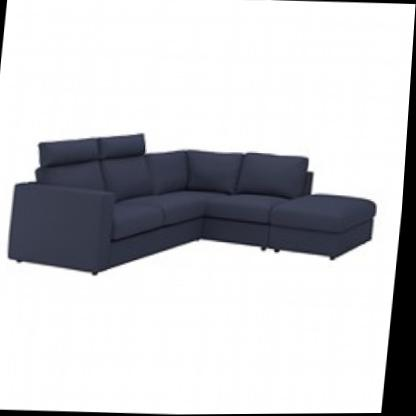Sofa: (0, 119, 389, 301)
